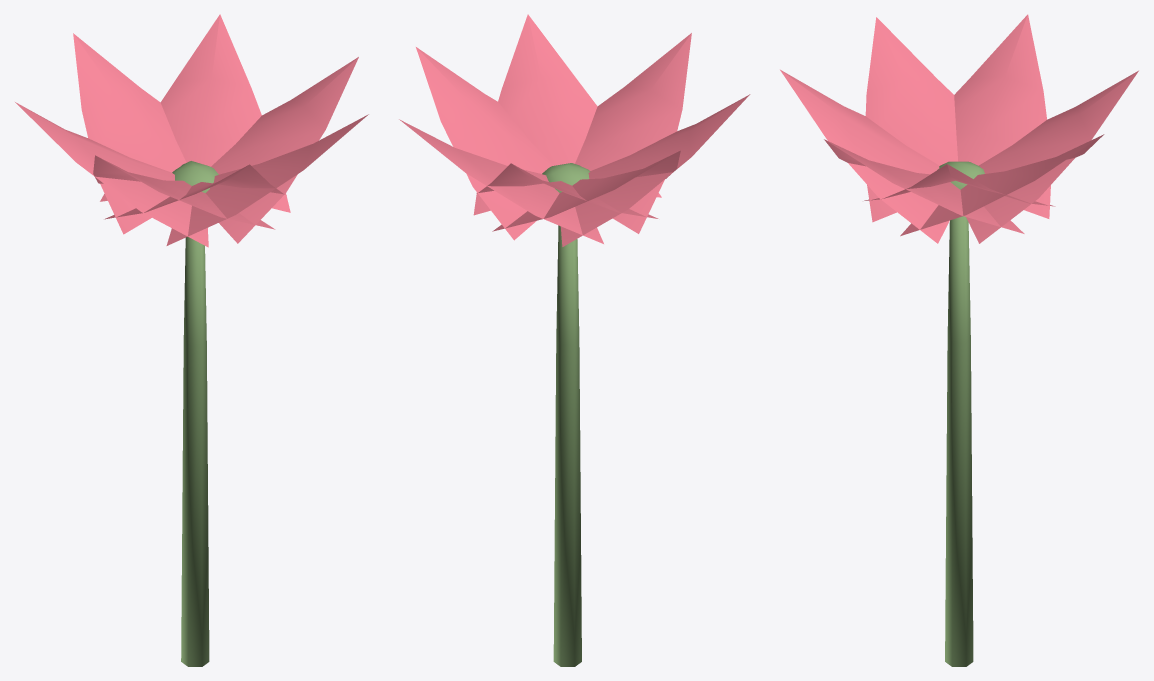
The model's file is SM_Beach_11_TropicalFlower.fbx.
3 renders of one model, left to right at view 1: azimuth 30°, elevation 25°; view 2: azimuth 150°, elevation 25°; view 3: azimuth 270°, elevation 25°, orthographic.
Parts seen in each view (by area): view 1: SM_Beach_11_TropicalFlower; view 2: SM_Beach_11_TropicalFlower; view 3: SM_Beach_11_TropicalFlower.
Boxes of the visible parts, x1,y1,x2,y2 form: SM_Beach_11_TropicalFlower: (15,14,368,666); SM_Beach_11_TropicalFlower: (399,14,750,666); SM_Beach_11_TropicalFlower: (780,14,1138,666).
Size of the model in its own units: 13.97 by 25 by 14.17.
